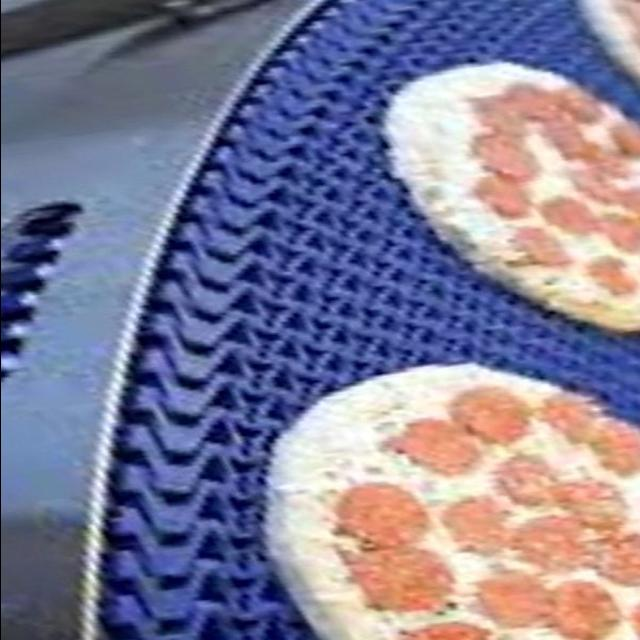food: (261, 362, 640, 640), (379, 59, 640, 336)
